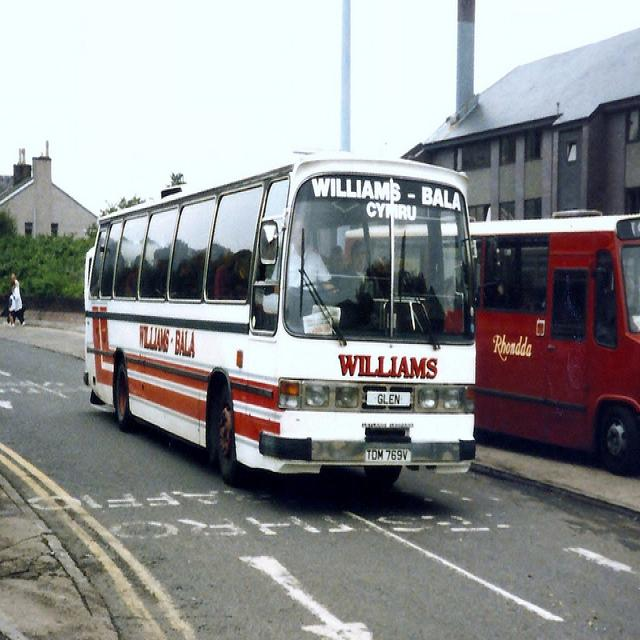Vehicle: (86, 154, 477, 485), (479, 214, 640, 481)
